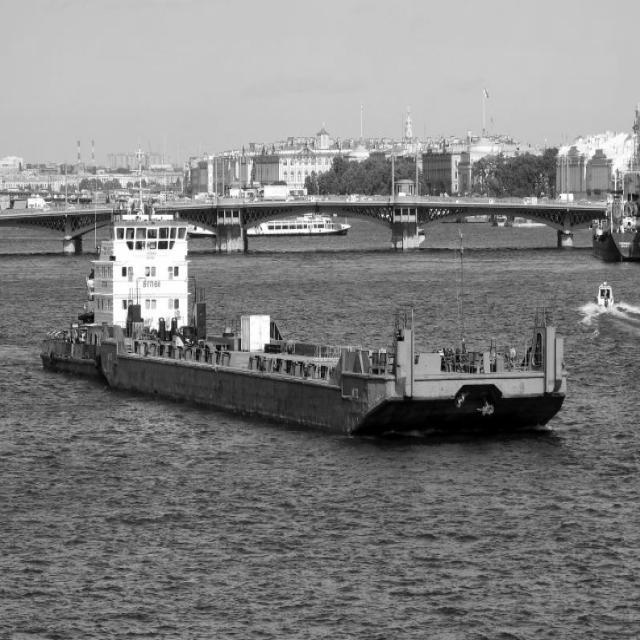tugboat: (39, 203, 214, 388)
